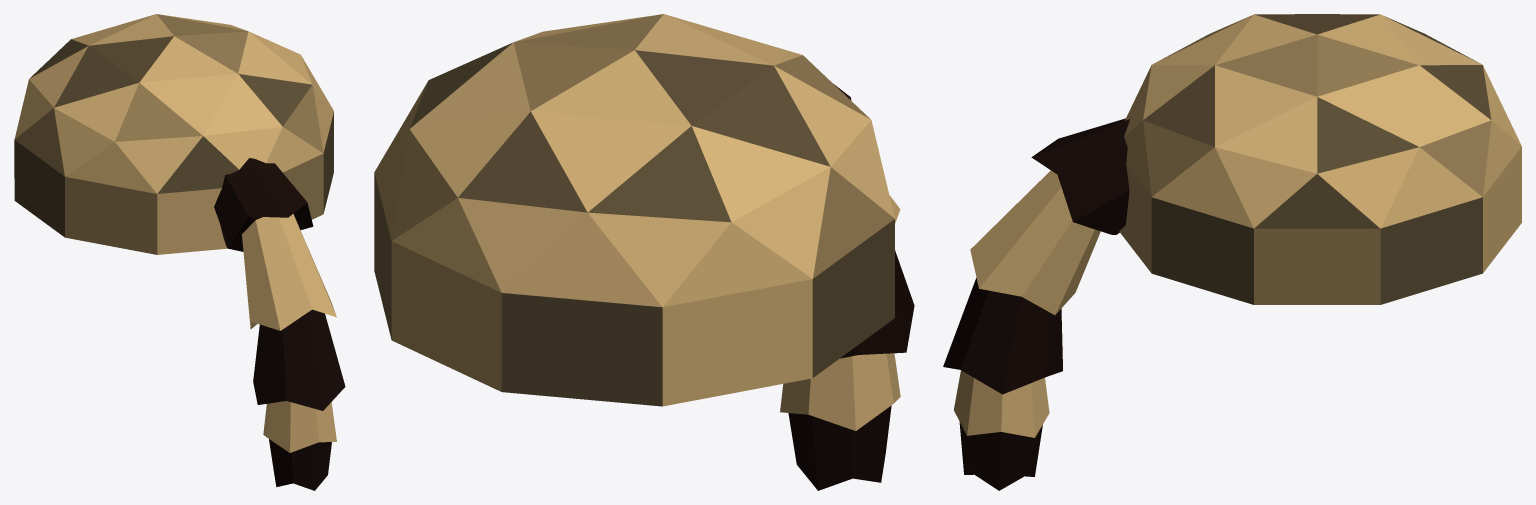
The model's file is hat_hunter.fbx.
3 views of the same model, side by side, from view 1: azimuth 30°, elevation 25°; view 2: azimuth 150°, elevation 25°; view 3: azimuth 270°, elevation 25° (orthographic). The views are drawn at different scales.
Parts seen in each view (by area): view 1: Icosphere, Cylinder; view 2: Icosphere, Cylinder; view 3: Icosphere, Cylinder.
Boxes of the visible parts, x1,y1,x2,y2 form: Icosphere: (14,14,333,254); Cylinder: (214,158,345,490); Icosphere: (374,14,894,406); Cylinder: (780,83,914,490); Icosphere: (1119,14,1521,304); Cylinder: (943,118,1129,490).
Bounding box in the file's own units: 190 × 239 × 283.
